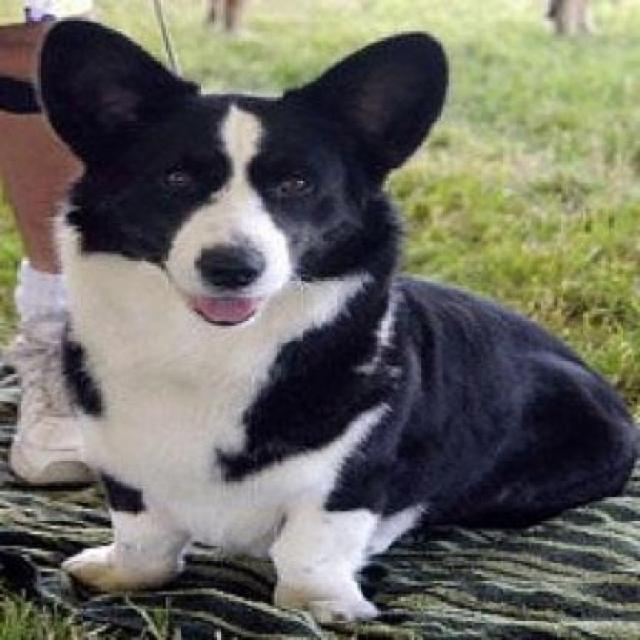Dog: (32, 8, 638, 624)
